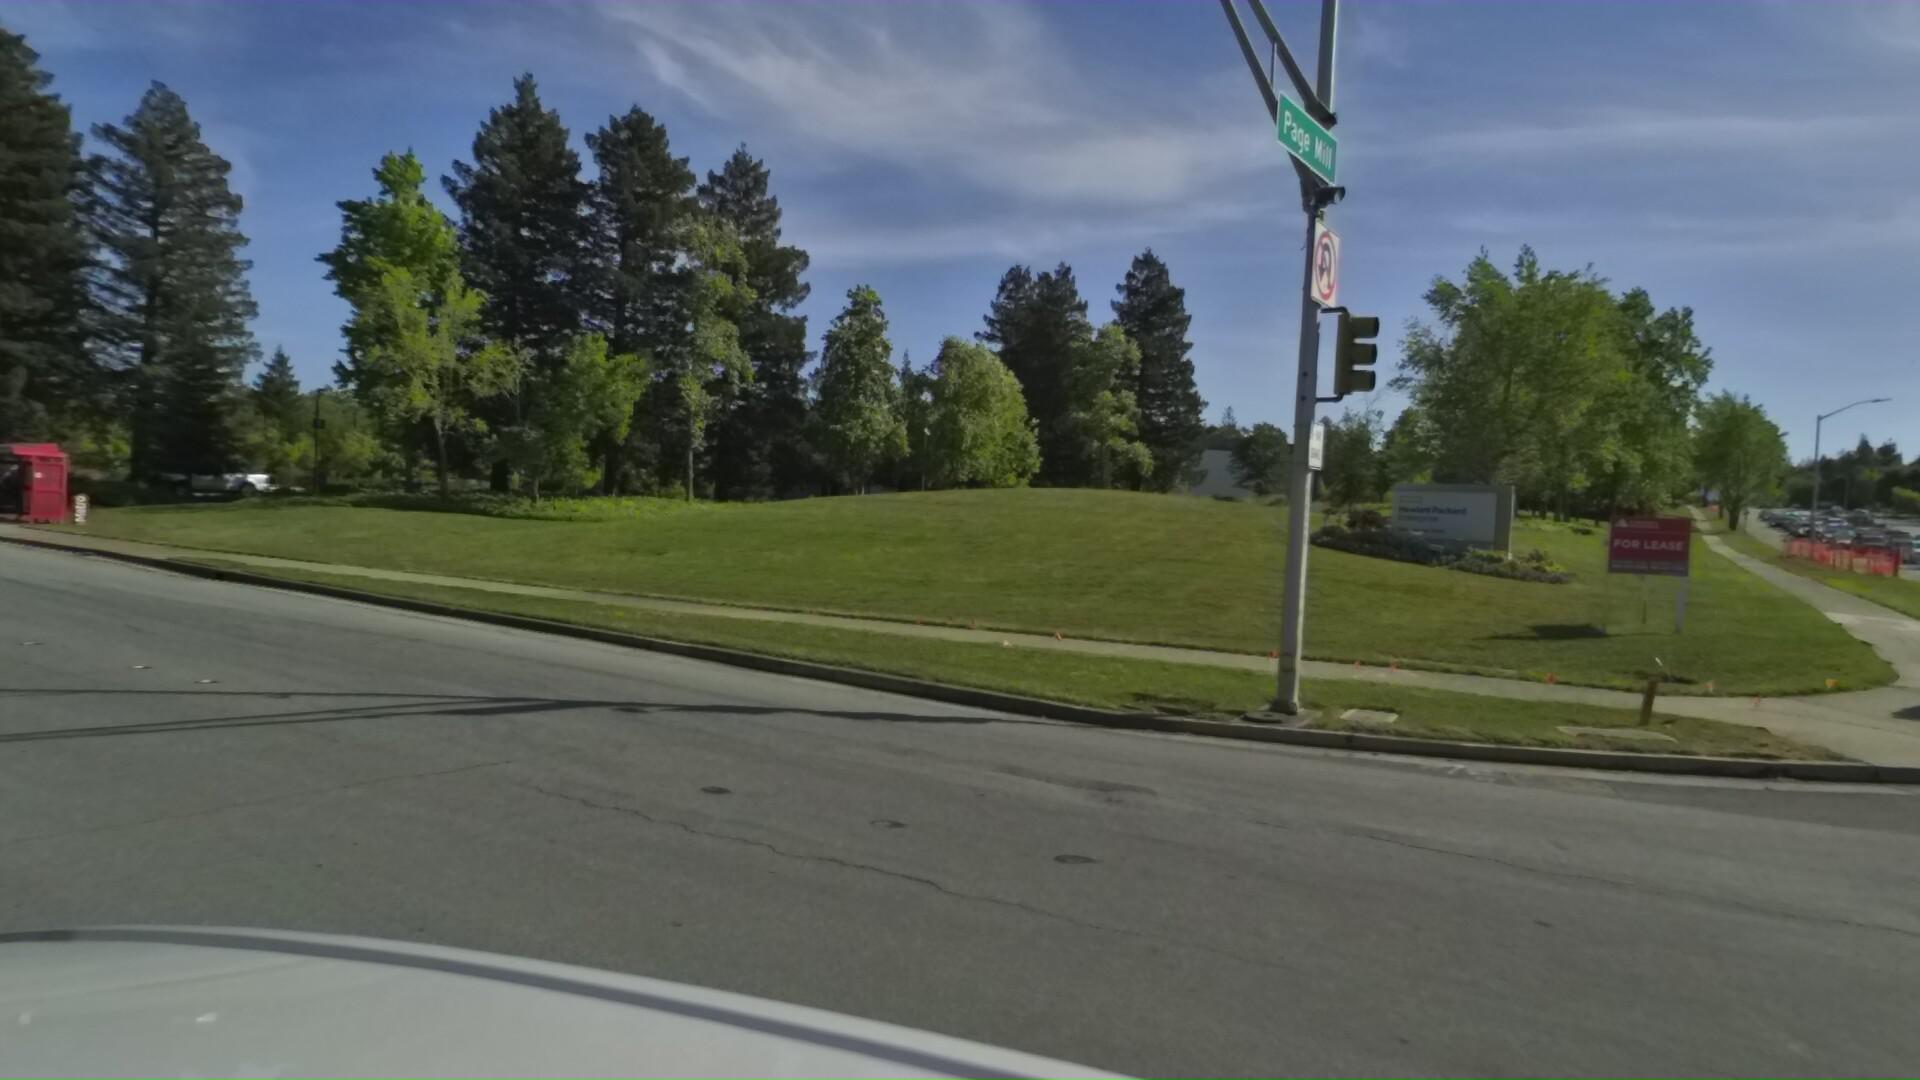car: (136, 451, 291, 498), (1887, 535, 1920, 564), (1904, 542, 1920, 572)
